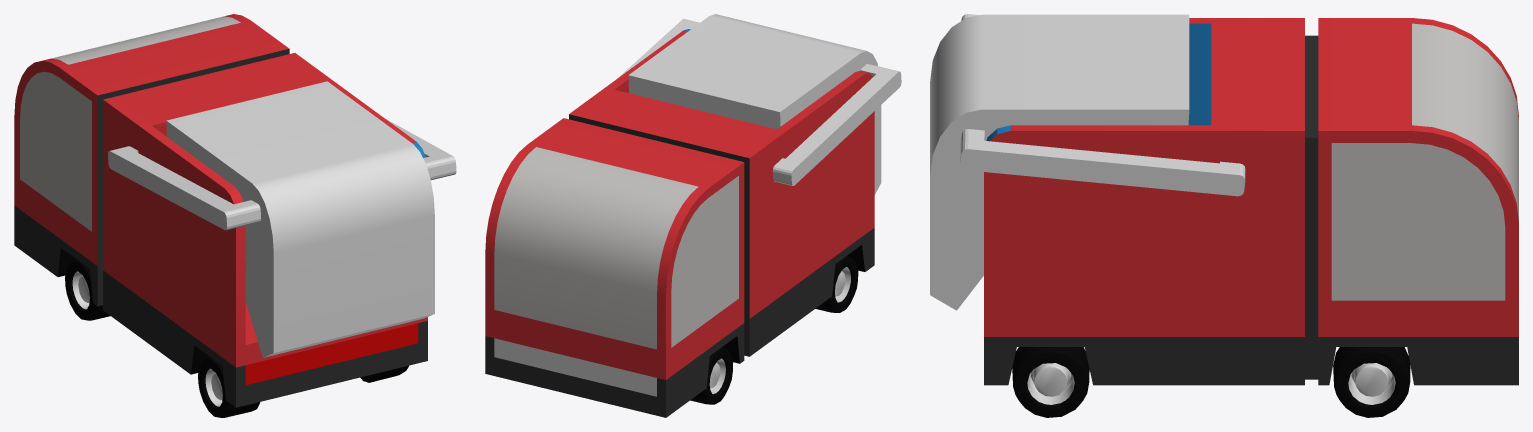
Rendered from SM_GarbageTrack_Red.fbx.
3 views of the same model, side by side, from view 1: azimuth 30°, elevation 25°; view 2: azimuth 150°, elevation 25°; view 3: azimuth 270°, elevation 25° (orthographic). The views are drawn at different scales.
Visible parts, largest first — view 1: BodyRed, Rear, WheelsRear, Wheels.Front; view 2: BodyRed, Rear, Wheels.Front, WheelsRear; view 3: BodyRed, Rear, Wheels.Front, WheelsRear.
Part boxes in pixels (box(x1,y1,x2,y2)): BodyRed: box(14, 14, 427, 407); Rear: box(108, 81, 456, 357); WheelsRear: box(198, 357, 408, 417); Wheels.Front: box(65, 259, 110, 320); BodyRed: box(485, 29, 874, 417); Rear: box(617, 14, 901, 194); Wheels.Front: box(690, 347, 732, 404); WheelsRear: box(815, 255, 858, 312); BodyRed: box(984, 18, 1518, 385); Rear: box(930, 14, 1245, 310); Wheels.Front: box(1333, 347, 1410, 417); WheelsRear: box(1012, 347, 1089, 417).
Size of the model in its own units: 241 by 251 by 440.
